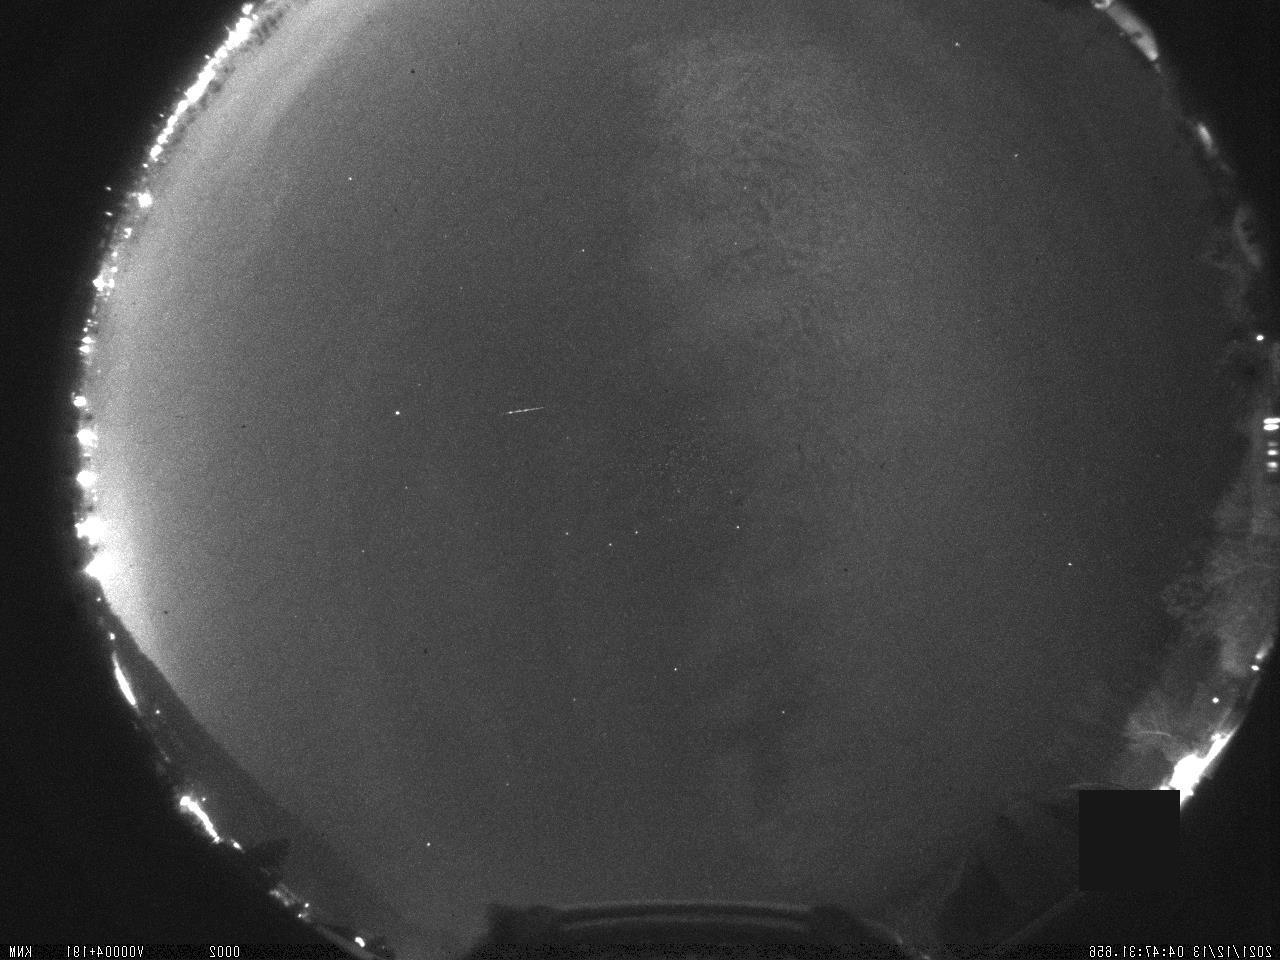meteor: (490, 389, 550, 431)
